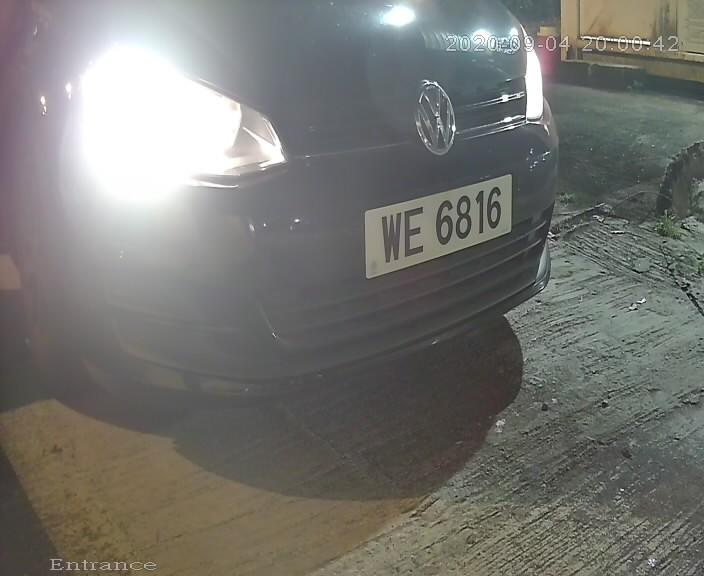Car: (1, 1, 626, 451)
License Plate: (353, 160, 520, 288)
